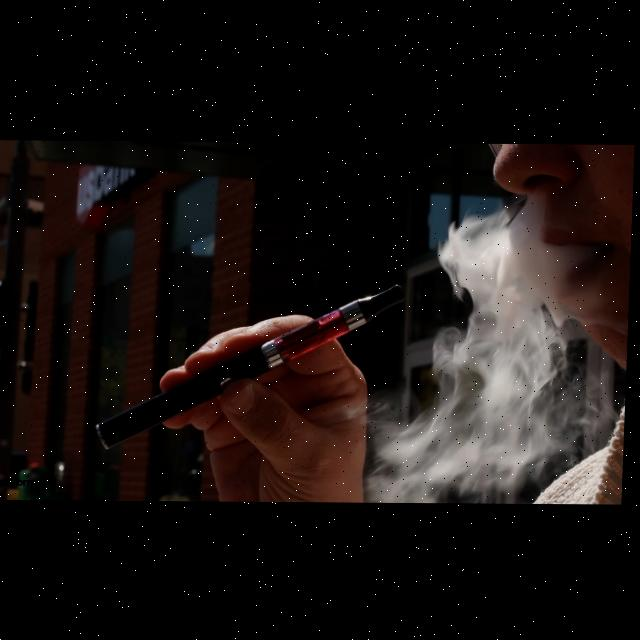vape: (95, 280, 411, 453)
